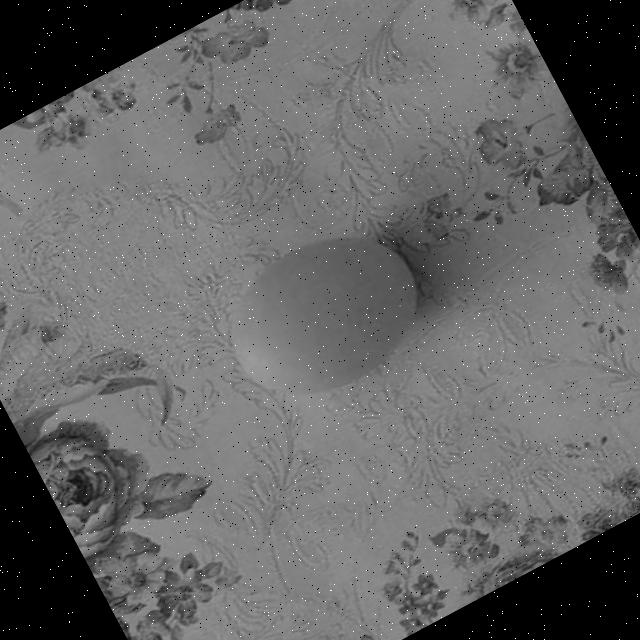ping-pong-ball: (212, 208, 442, 420)
